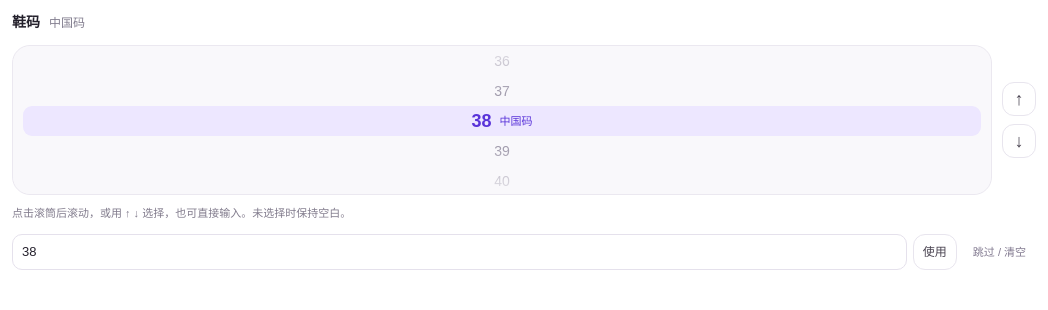
Test: 资料滚筒控件 › 鞋码枚举校验与上下边界独立于现有M1仅38覆盖
Press Home in the number field, box top-left (12, 45), bottom-right (992, 195)
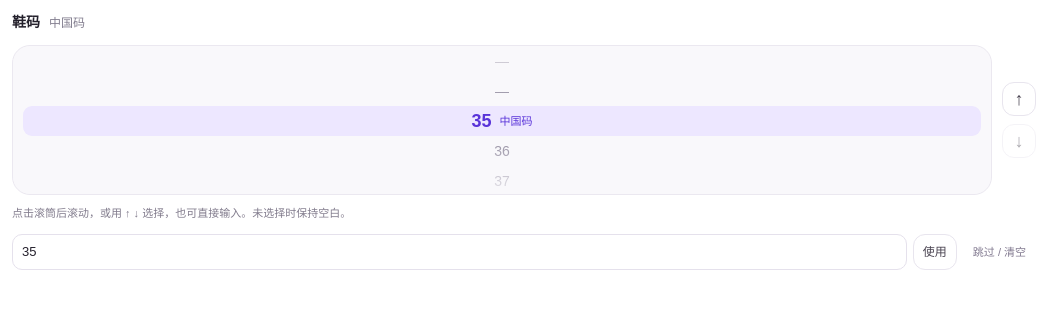
Expected: the button named "减小鞋码" is disabled, top-left (1002, 124), bottom-right (1036, 158)
Press PageUp in the number field, box top-left (12, 45), bottom-right (992, 195)
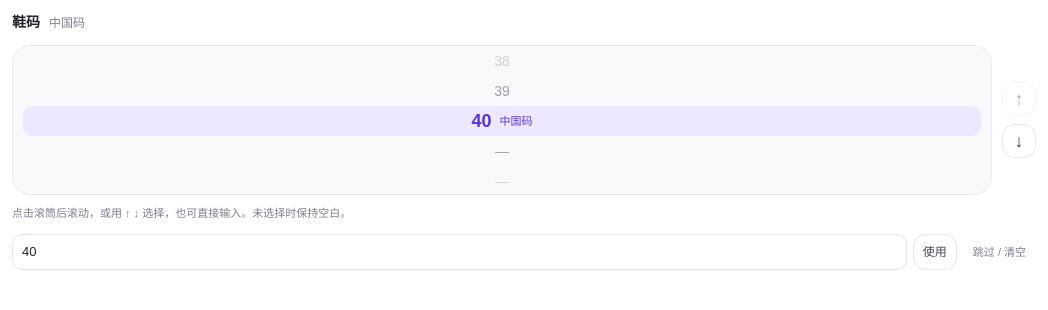
Expected: the button named "增大鞋码" is disabled, top-left (1002, 82), bottom-right (1036, 116)
Replace the text in the field with "41": (459, 252) top-left (12, 234), bottom-right (907, 270)
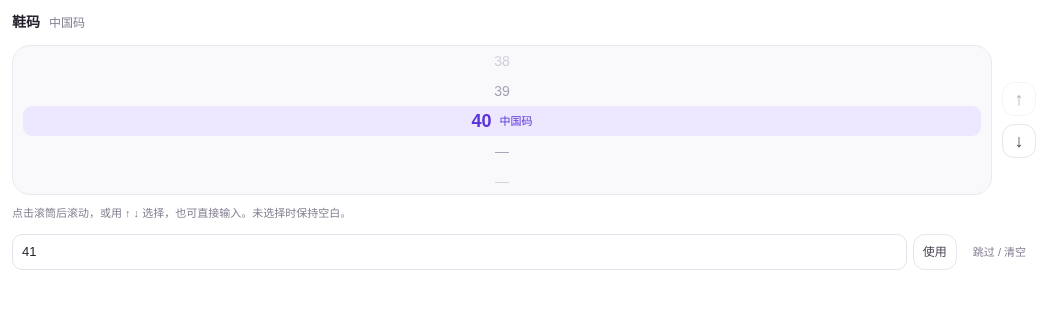
Leave the field, box top-left (12, 234), bottom-right (907, 270)
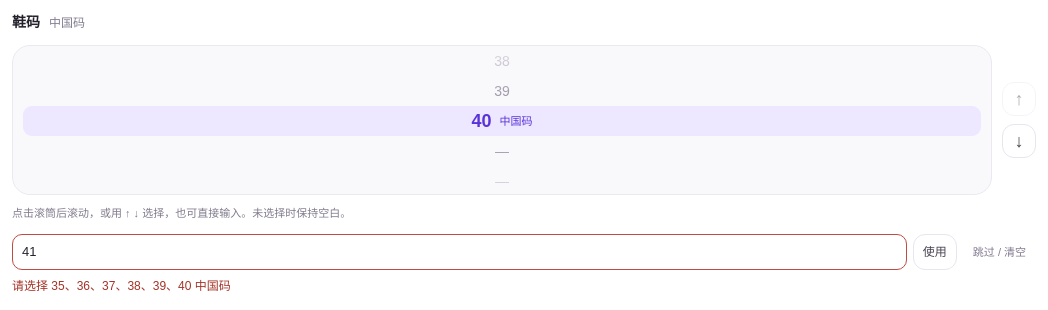
Result: the message shows "35、36、37、38、39、40 中国码" at top-left (12, 279), bottom-right (231, 293)
